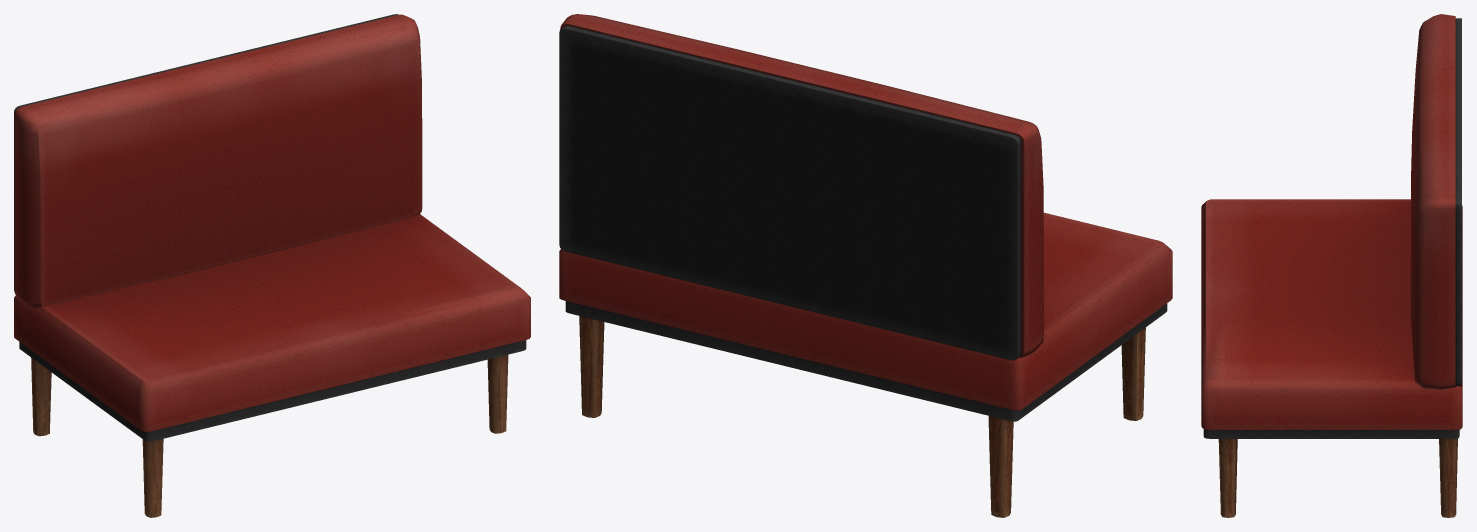
Rendered from prop_sofa01.fbx.
3 renders of one model, left to right at view 1: azimuth 30°, elevation 25°; view 2: azimuth 150°, elevation 25°; view 3: azimuth 270°, elevation 25°, orthographic. The views are drawn at different scales.
Parts seen in each view (by area): view 1: prop_sofa01; view 2: prop_sofa01; view 3: prop_sofa01.
Boxes of the visible parts, bbox=[...] form: prop_sofa01: bbox=[14, 14, 530, 517]; prop_sofa01: bbox=[559, 14, 1172, 517]; prop_sofa01: bbox=[1201, 14, 1462, 517].
Bounding box in the file's own units: 1.32 × 1.05 × 0.7668.
